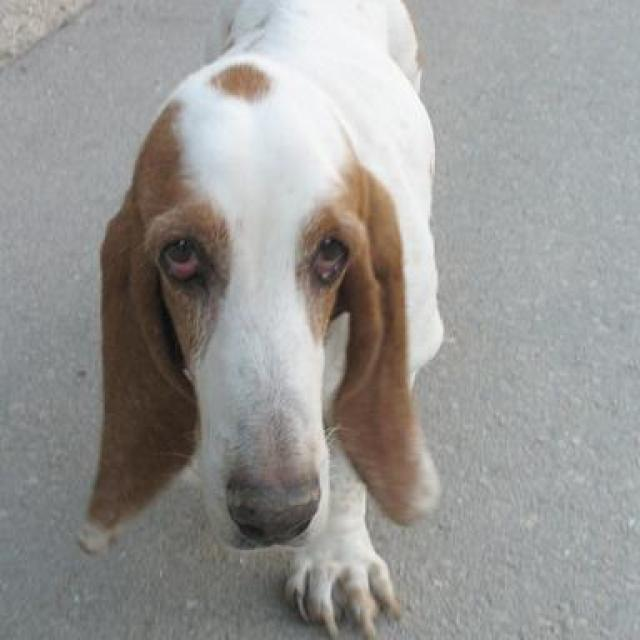sad: (63, 1, 586, 640)
